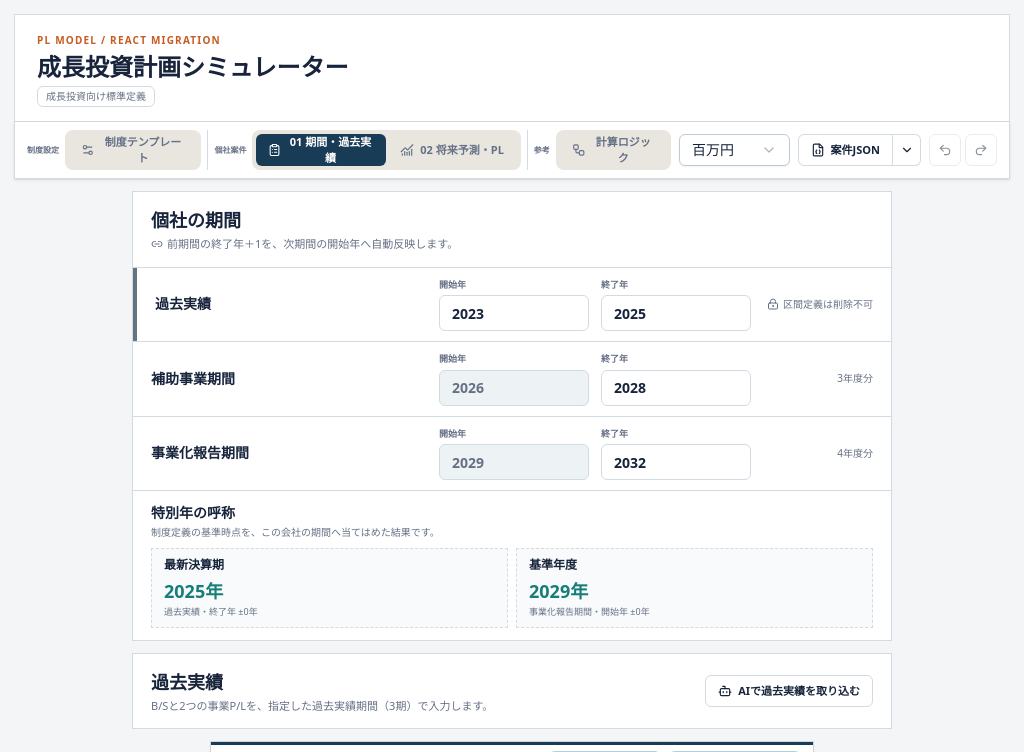
it: 期間・過去実績 › 編集中の入力からUndoボタンを押しても一度で変更前へ戻る
Step 1. Replace the text in the number field named "補助事業期間 終了年" with "2029" → (676, 388), box [601,370,751,406]
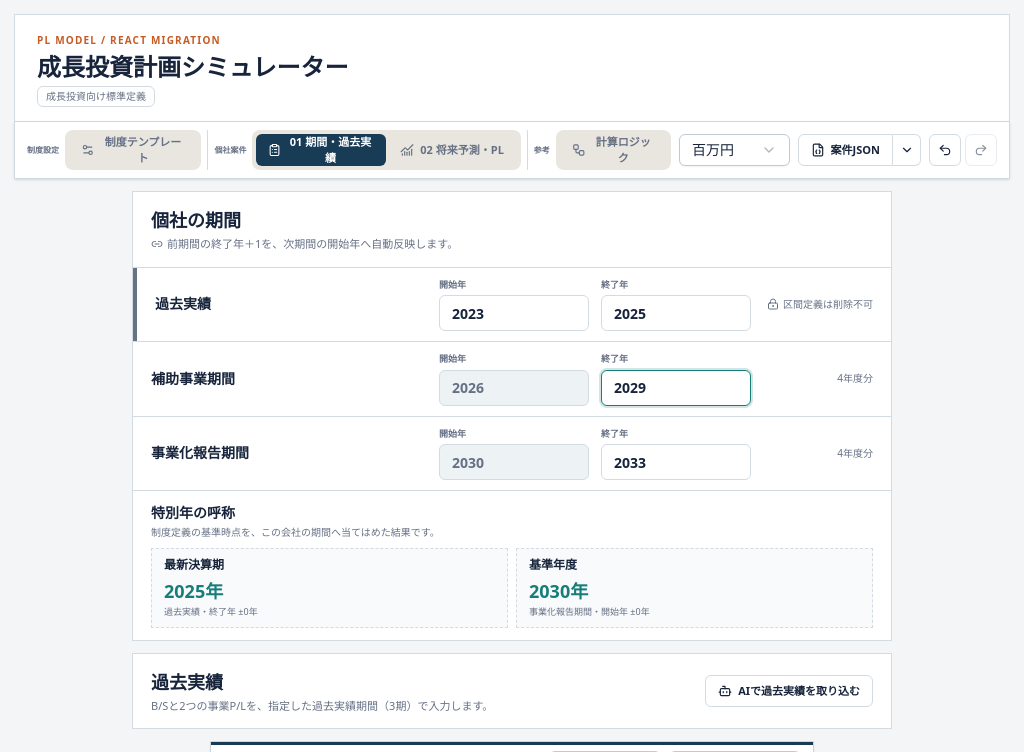
Step 2. Click the button named "元に戻す Ctrl+Z" → (945, 150), box [929,134,961,166]
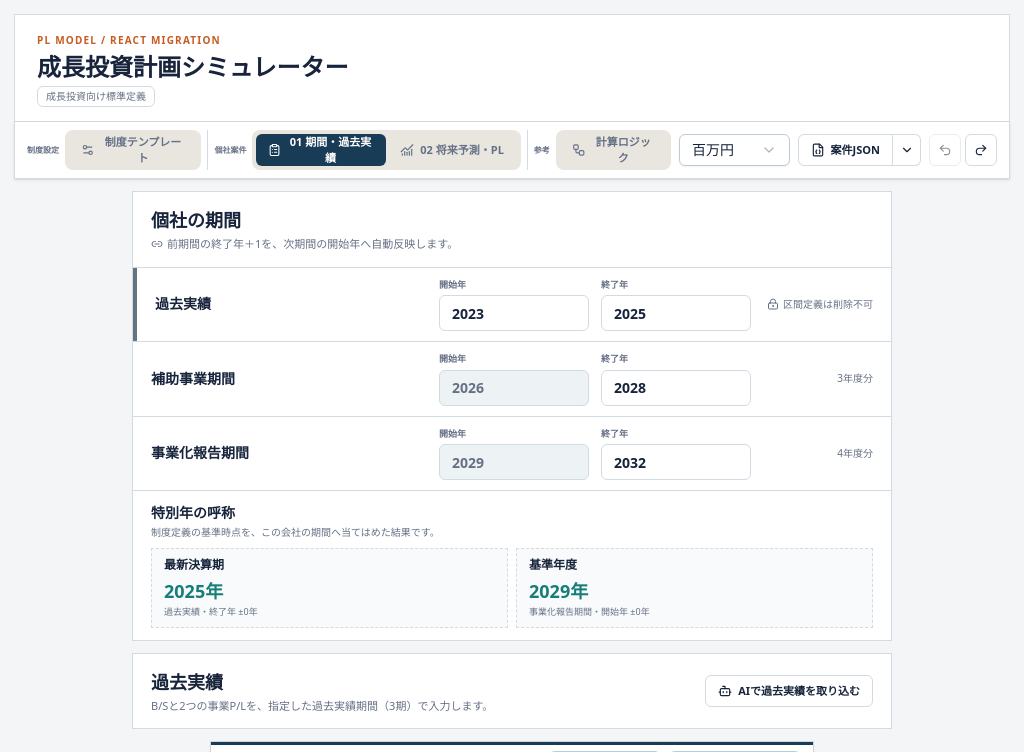
Now the number field named "事業化報告期間 開始年" holds "2029", box [439,444,589,480]
